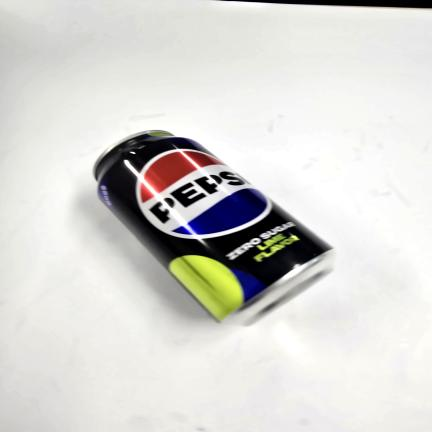can_pepsi_zero: (94, 130, 333, 325)
